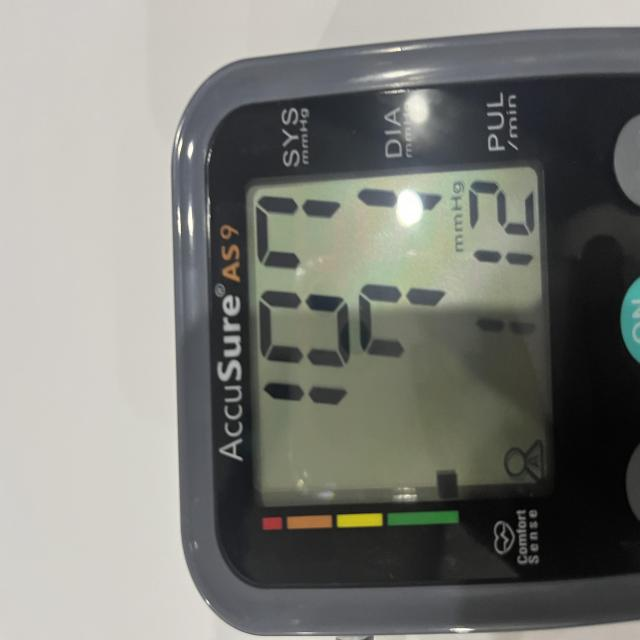bp: (168, 28, 640, 640)
